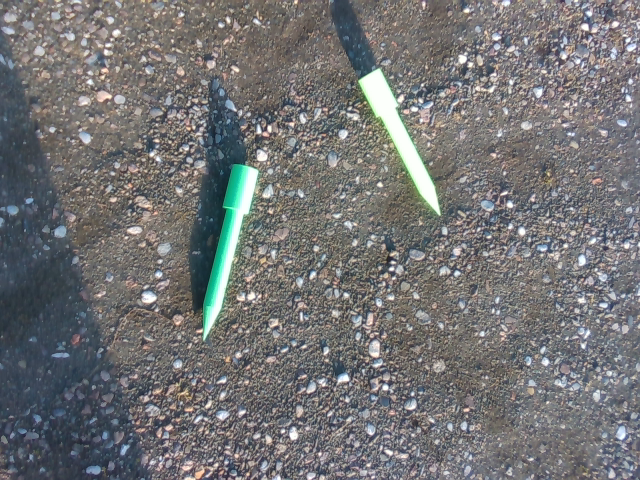Probe: (353, 63, 447, 223), (198, 158, 263, 344)
